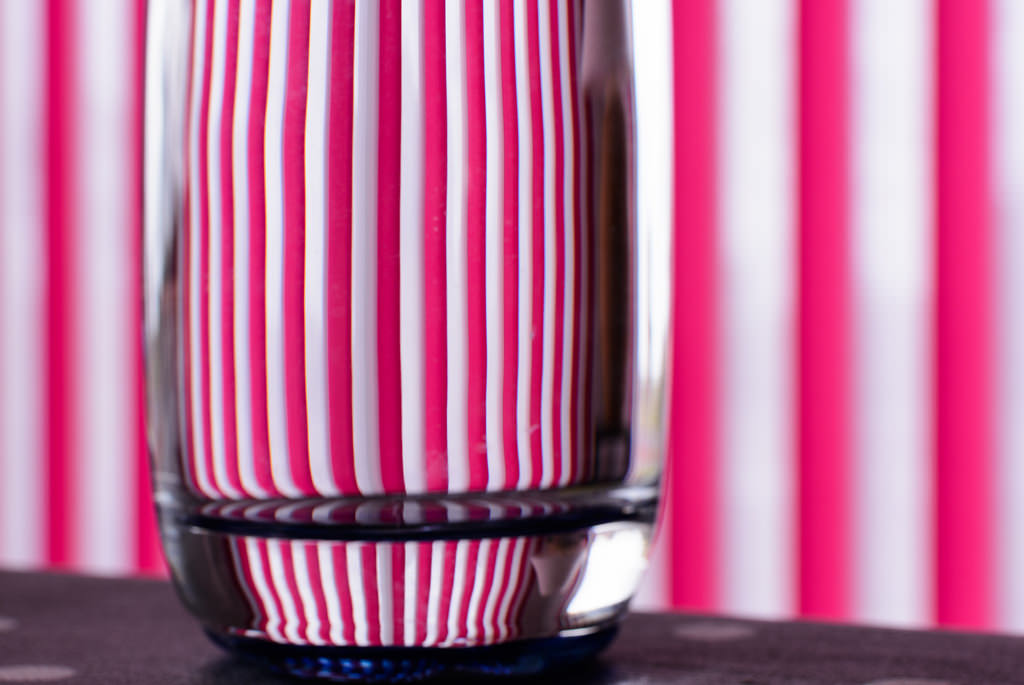glass of water: (125, 6, 686, 674)
